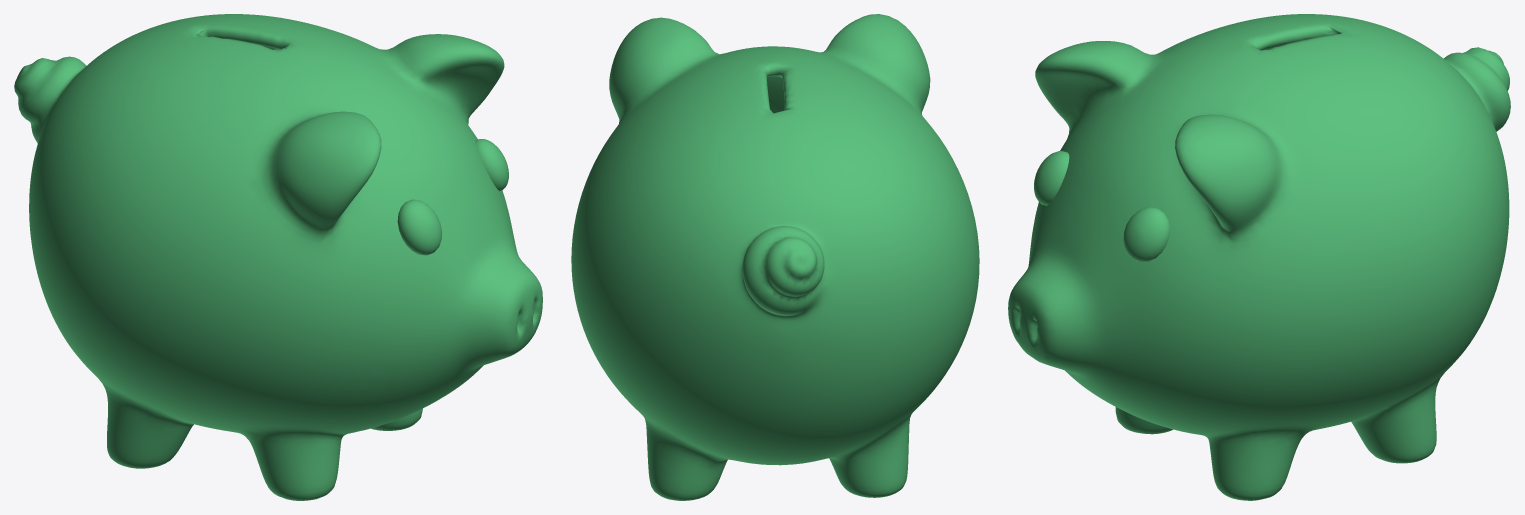
Rendered from PiggyBank.glb.
3 views of the same model, side by side, from view 1: azimuth 30°, elevation 25°; view 2: azimuth 150°, elevation 25°; view 3: azimuth 270°, elevation 25° (orthographic). The views are drawn at different scales.
Parts seen in each view (by area): view 1: pasted__Piggy_Bank.001; view 2: pasted__Piggy_Bank.001; view 3: pasted__Piggy_Bank.001.
Part boxes in pixels (x1=…): pasted__Piggy_Bank.001: x1=14, y1=14, x2=542, y2=500; pasted__Piggy_Bank.001: x1=571, y1=14, x2=979, y2=500; pasted__Piggy_Bank.001: x1=1008, y1=14, x2=1510, y2=500.
Bounding box in the file's own units: 3.15 × 3.03 × 3.48.
